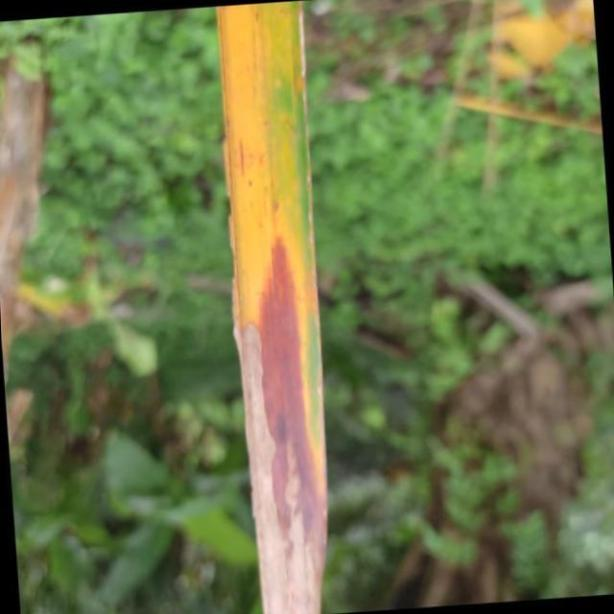Megnesium: (215, 3, 327, 614)
